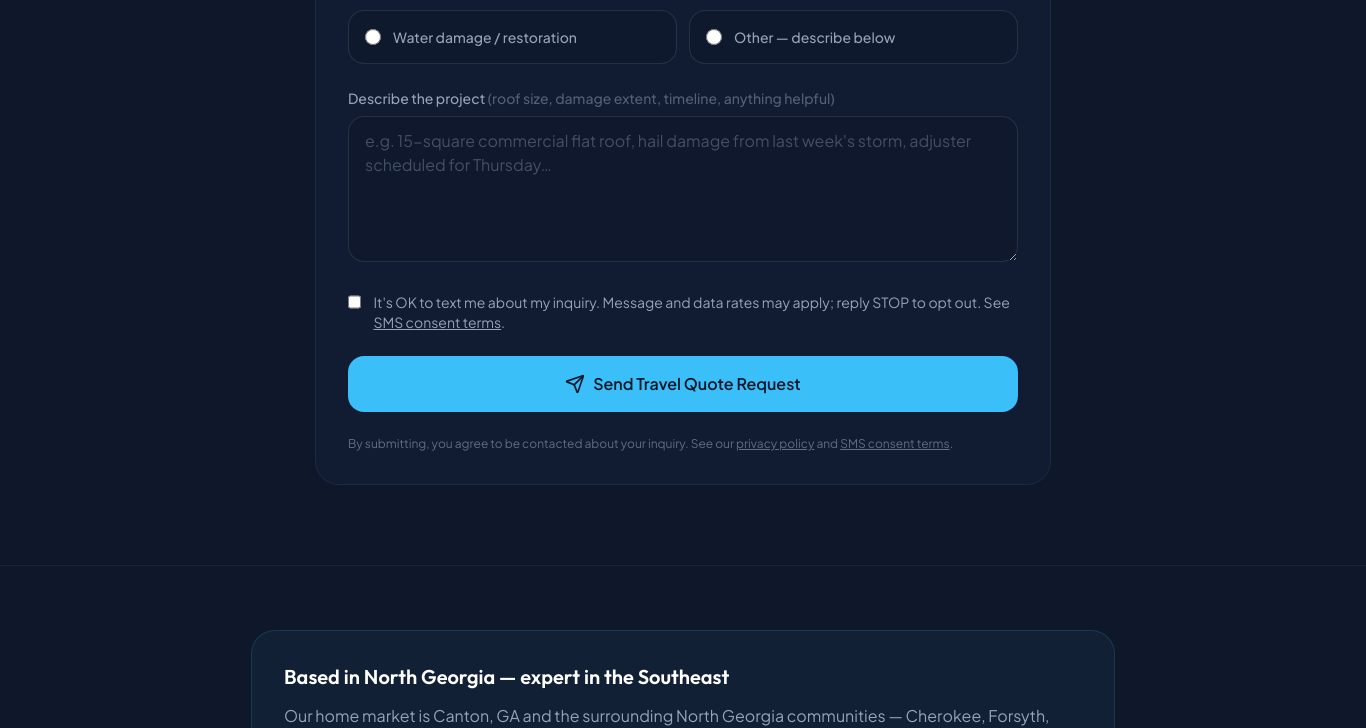
Scenario: NationwidePage travel-quote form › shows a validation error and does not submit when required fields are missing
This screenshot has width=1366, height=728.
(page scrolled)
Do not fill anything in.
Step 1. Click the button "Send Travel Quote Request" → {"x": 683, "y": 384}, box [348,356,1018,412]
(page scrolled)
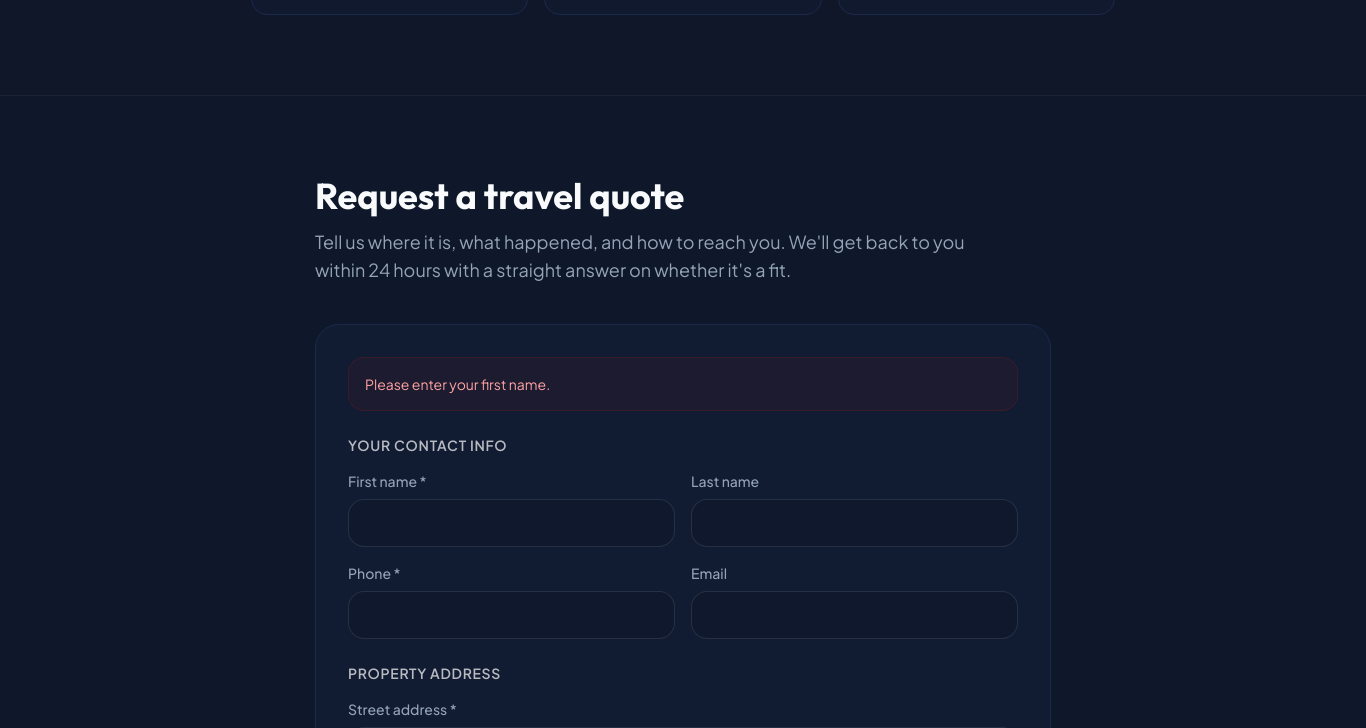
Result: the message shows "first name" at [365,375,550,393]
